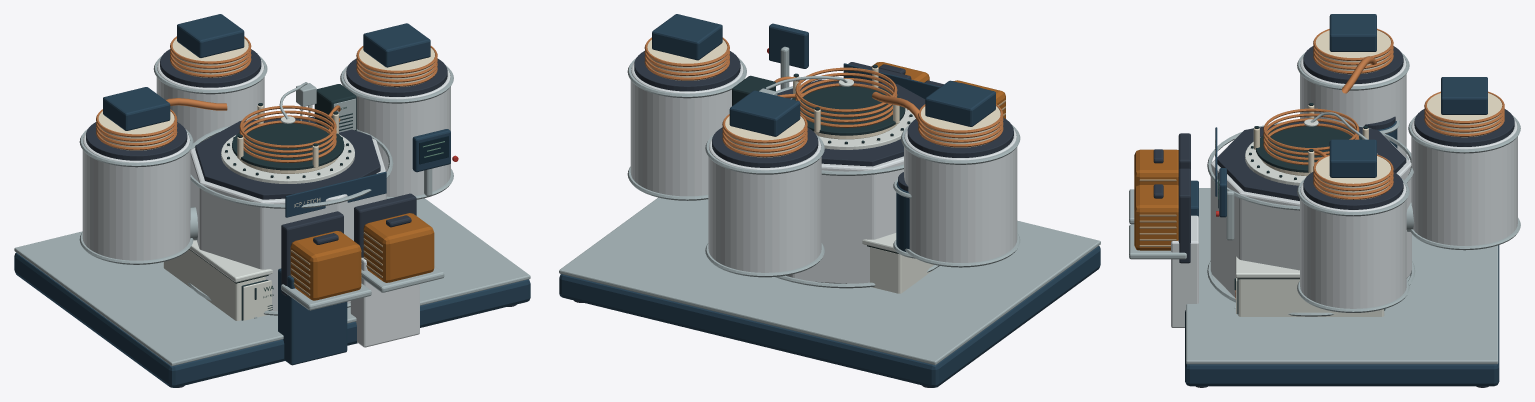
File: icp-chamber.glb
3 views of the same model, side by side, from view 1: azimuth 30°, elevation 25°; view 2: azimuth 150°, elevation 25°; view 3: azimuth 270°, elevation 25° (orthographic). The views are drawn at different scales.
Visible parts, largest first — view 1: Raised deck edge, ICP chamber service shield, Segmented service plinth, Faceted vacuum transfer core, ICP chamber service shield.001, Faceted vacuum transfer core top cap, Independent load port base, Amber wafer transport pod, Amber wafer transport pod.001, ICP chamber service shield.002, Independent load port base.001, Source rear backing (+32 smaller); view 2: Raised deck edge, Segmented service plinth, ICP chamber service shield.002, ICP chamber service shield, ICP chamber service shield.001, Faceted vacuum transfer core, Source rear backing, RF matching pedestal.002, RF matching pedestal.001, RF matching pedestal, Faceted vacuum transfer core top cap, Cabinet chassis (+23 smaller); view 3: Raised deck edge, ICP chamber service shield.001, ICP chamber service shield.002, Segmented service plinth, Faceted vacuum transfer core, ICP chamber service shield, Faceted vacuum transfer core top cap, Cabinet chassis, Amber wafer transport pod.001, Source rear backing, Independent load port base.001, RF matching pedestal.001 (+31 smaller).
Part boxes in pixels (x1,y1,x2,y2): Raised deck edge: (14, 198, 530, 366); ICP chamber service shield: (82, 133, 190, 260); Segmented service plinth: (14, 252, 530, 387); Faceted vacuum transfer core: (190, 138, 386, 311); ICP chamber service shield.001: (343, 69, 450, 196); Faceted vacuum transfer core top cap: (195, 117, 380, 199); Independent load port base: (278, 268, 347, 365); Amber wafer transport pod: (290, 231, 361, 300); Amber wafer transport pod.001: (363, 213, 434, 282); ICP chamber service shield.002: (156, 60, 264, 142); Independent load port base.001: (350, 257, 419, 347); Source rear backing: (232, 122, 344, 170); Raised deck edge: (559, 197, 1100, 365); Segmented service plinth: (559, 246, 1100, 387); ICP chamber service shield.002: (708, 139, 821, 272); ICP chamber service shield: (904, 129, 1017, 262); ICP chamber service shield.001: (630, 62, 743, 196); Faceted vacuum transfer core: (786, 156, 903, 283); Source rear backing: (792, 86, 905, 135); RF matching pedestal.002: (729, 90, 800, 136); RF matching pedestal.001: (652, 14, 722, 60); RF matching pedestal: (925, 80, 995, 126); Faceted vacuum transfer core top cap: (777, 79, 925, 166); Cabinet chassis: (870, 247, 933, 293); Raised deck edge: (1186, 188, 1498, 364); ICP chamber service shield.001: (1300, 182, 1406, 308); ICP chamber service shield.002: (1411, 119, 1517, 245); Segmented service plinth: (1185, 245, 1499, 386); Faceted vacuum transfer core: (1210, 134, 1411, 297); ICP chamber service shield: (1300, 57, 1406, 157); Faceted vacuum transfer core top cap: (1217, 121, 1406, 200); Cabinet chassis: (1238, 279, 1384, 316); Amber wafer transport pod.001: (1134, 185, 1178, 250); Source rear backing: (1256, 125, 1362, 172); Independent load port base.001: (1171, 215, 1198, 327); RF matching pedestal.001: (1329, 139, 1376, 177).
Bounding box in the file's own units: 7.35 × 4.33 × 6.98.
